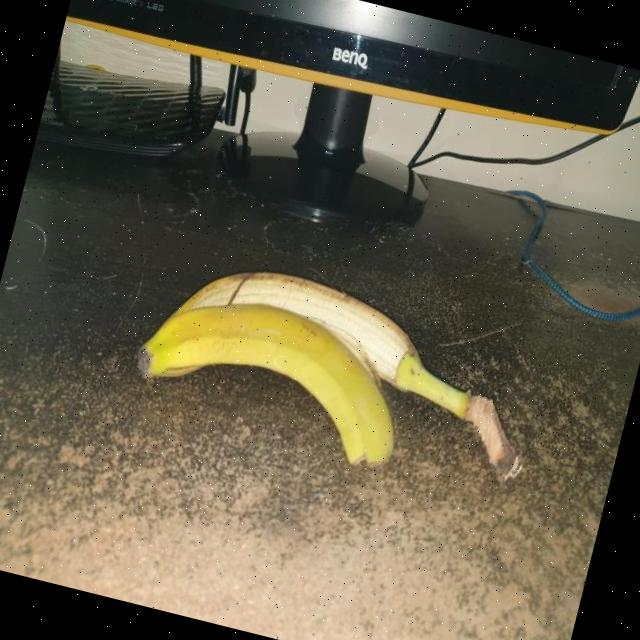banana-peel: (123, 241, 552, 504)
